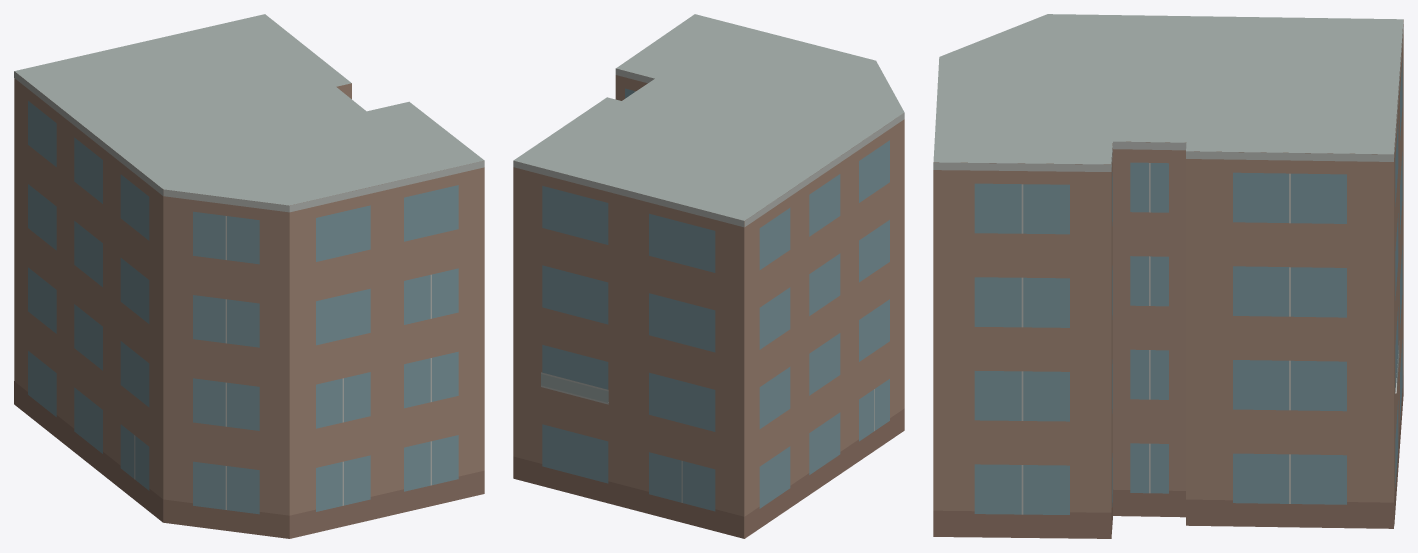
File: survey-upis-32858296.glb
3 renders of one model, left to right at view 1: azimuth 30°, elevation 25°; view 2: azimuth 150°, elevation 25°; view 3: azimuth 270°, elevation 25°, orthographic. The views are drawn at different scales.
Visible parts, largest first — view 1: survey-upis-32858296.tmp; view 2: survey-upis-32858296.tmp; view 3: survey-upis-32858296.tmp.
Part boxes in pixels (<box>): survey-upis-32858296.tmp: <box>14,14,484,538</box>; survey-upis-32858296.tmp: <box>513,14,904,538</box>; survey-upis-32858296.tmp: <box>933,14,1403,538</box>.
Size of the model in its own units: 10.26 by 11.9 by 13.55.
